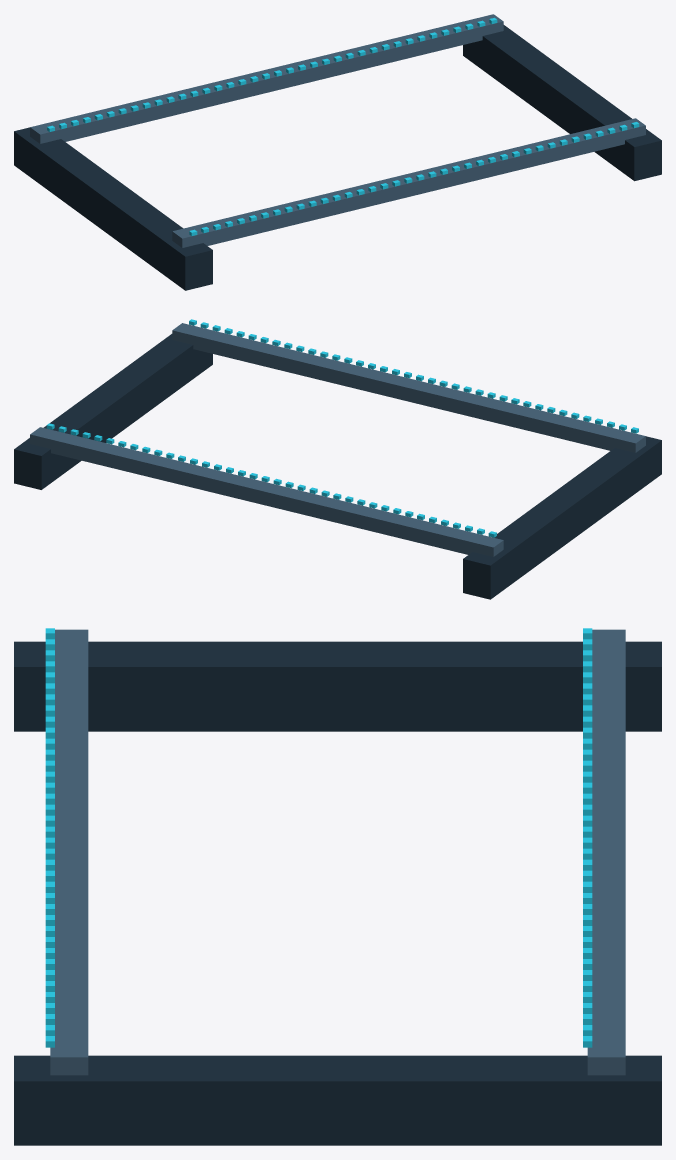
File: 15_L79_GantryXLinearRail.fbx
3 views of the same model, one above another, from view 1: azimuth 30°, elevation 25°; view 2: azimuth 150°, elevation 25°; view 3: azimuth 270°, elevation 25° (orthographic). The views are drawn at different scales.
Visible parts, largest first — view 1: GantryXLinearRail; view 2: GantryXLinearRail; view 3: GantryXLinearRail.
Boxes of the visible parts, <box> form: GantryXLinearRail: <box>14,14,661,290</box>; GantryXLinearRail: <box>14,319,661,599</box>; GantryXLinearRail: <box>14,628,661,1145</box>.
Bounding box in the file's own units: 658 × 63.75 × 410.
